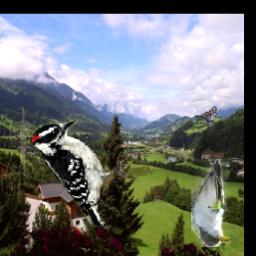Cuckoo: (192, 159, 231, 247)
Sparrow: (193, 105, 217, 127)
Woodpecker: (30, 119, 135, 229)
